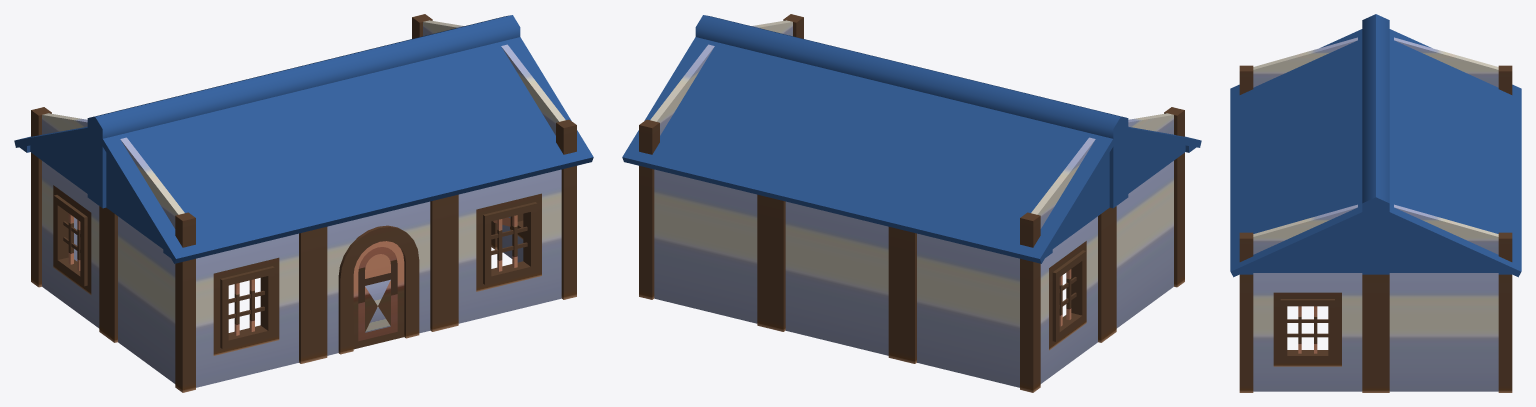
File: maison-bois-3.glb
The picture shows the model from 3 angles, left to right: view 1: azimuth 30°, elevation 25°; view 2: azimuth 150°, elevation 25°; view 3: azimuth 270°, elevation 25°; orthographic projection. The views are drawn at different scales.
Parts seen in each view (by area): view 1: wall-window-shutters, roof; view 2: wall-window-shutters, roof; view 3: roof, wall-window-shutters.
Boxes of the visible parts, bbox=[...] form: wall-window-shutters: bbox=[31, 14, 576, 392]; roof: bbox=[14, 15, 593, 263]; wall-window-shutters: bbox=[639, 14, 1184, 392]; roof: bbox=[622, 15, 1201, 263]; roof: bbox=[1230, 14, 1521, 277]; wall-window-shutters: bbox=[1239, 37, 1512, 392].
Size of the model in its own units: 9.54 by 4.88 by 6.4.
2 materials, 1 textured.
